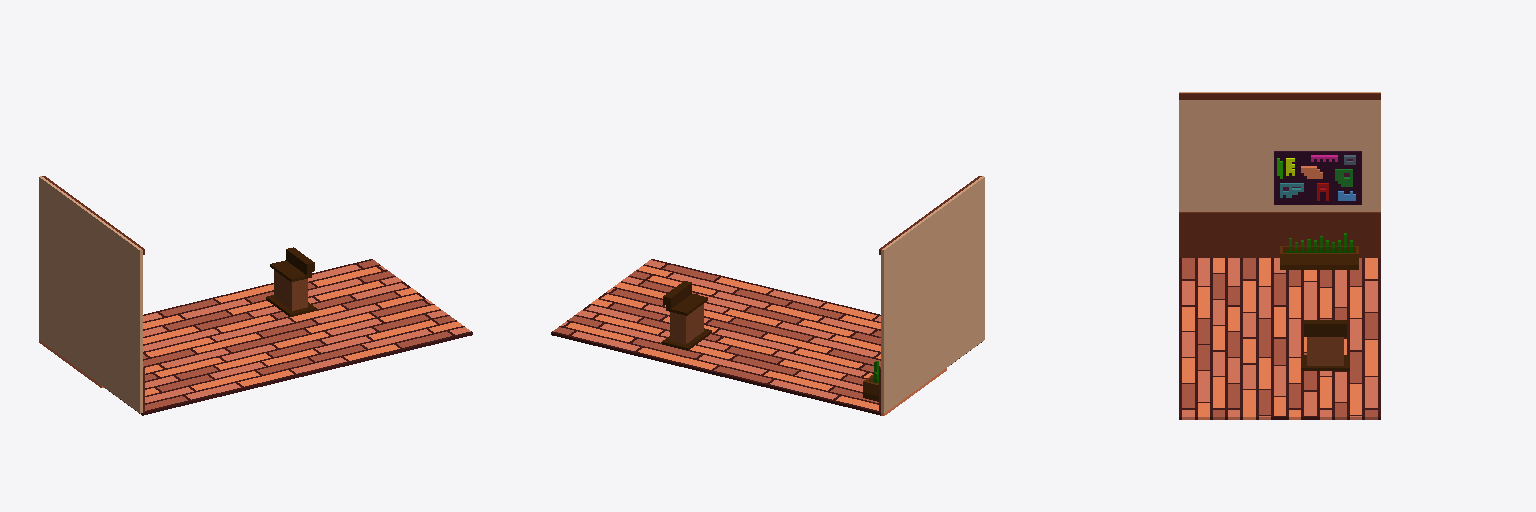
3 views of the same model, side by side, from view 1: azimuth 30°, elevation 25°; view 2: azimuth 150°, elevation 25°; view 3: azimuth 270°, elevation 25° (orthographic).
Visible parts, largest first — view 1: object 1; view 2: object 1; view 3: object 1.
Boxes of the visible parts, <box> form: object 1: <box>39,176,472,415</box>; object 1: <box>551,176,984,415</box>; object 1: <box>1179,92,1380,419</box>.
Bounding box in the file's own units: 12.6 × 6 × 6.6.
1 materials, 1 textured.